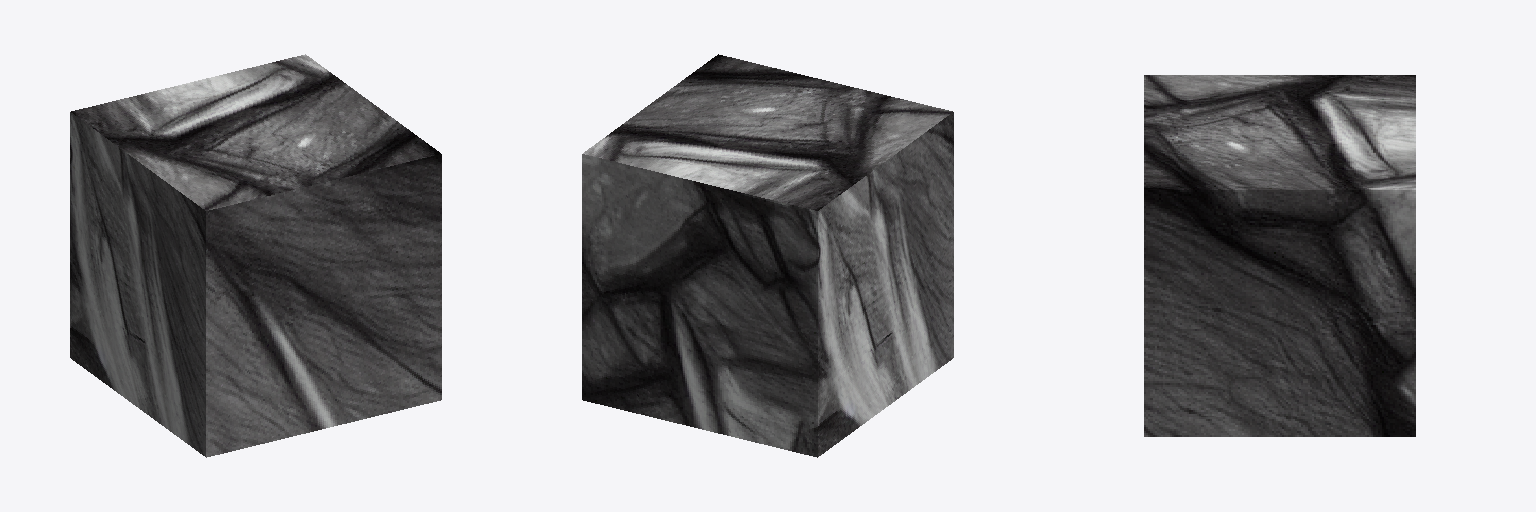
The picture shows the model from 3 angles: view 1: azimuth 30°, elevation 25°; view 2: azimuth 150°, elevation 25°; view 3: azimuth 270°, elevation 25°; orthographic projection.
Visible parts, largest first — view 1: Cube; view 2: Cube; view 3: Cube.
Part boxes in pixels (x1,y1,x2,y2): Cube: (70,54,441,457); Cube: (582,54,953,457); Cube: (1144,75,1415,436).
Size of the model in its own units: 2 by 2 by 2.
1 materials, 1 textured.